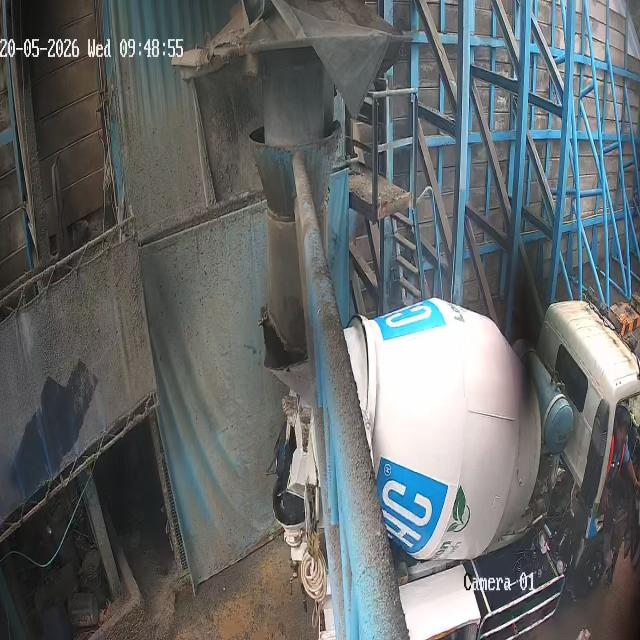cement_mixer_truck: (262, 299, 639, 639)
swing_chute: (247, 125, 346, 364)
